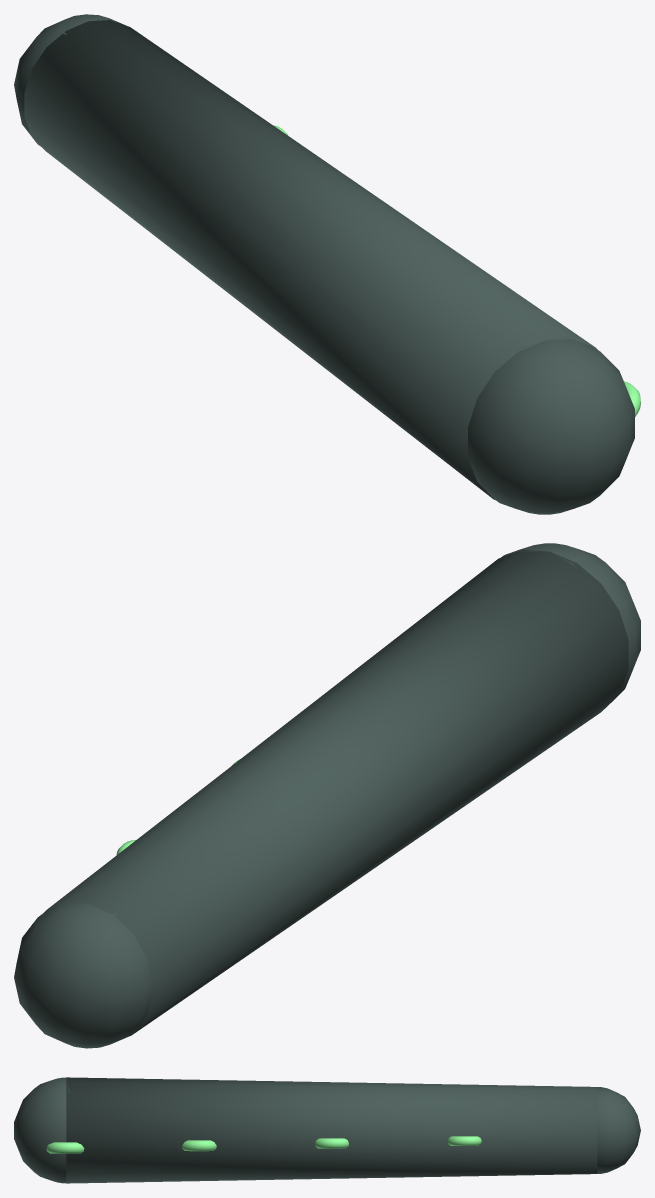
Rendered from seg7.glb.
3 renders of one model, top to bottom at view 1: azimuth 30°, elevation 25°; view 2: azimuth 150°, elevation 25°; view 3: azimuth 270°, elevation 25°, orthographic. The views are drawn at different scales.
Visible parts, largest first — view 1: tentacle; view 2: tentacle; view 3: tentacle, sucker.
Boxes of the visible parts, left/top/right/bottom form: tentacle: left=14, top=14, right=634, bottom=514; tentacle: left=14, top=543, right=640, bottom=1048; tentacle: left=14, top=1077, right=640, bottom=1183; sucker: left=46, top=1136, right=481, bottom=1153.
Bounding box in the file's own units: 0.1819 × 0.1706 × 1.
